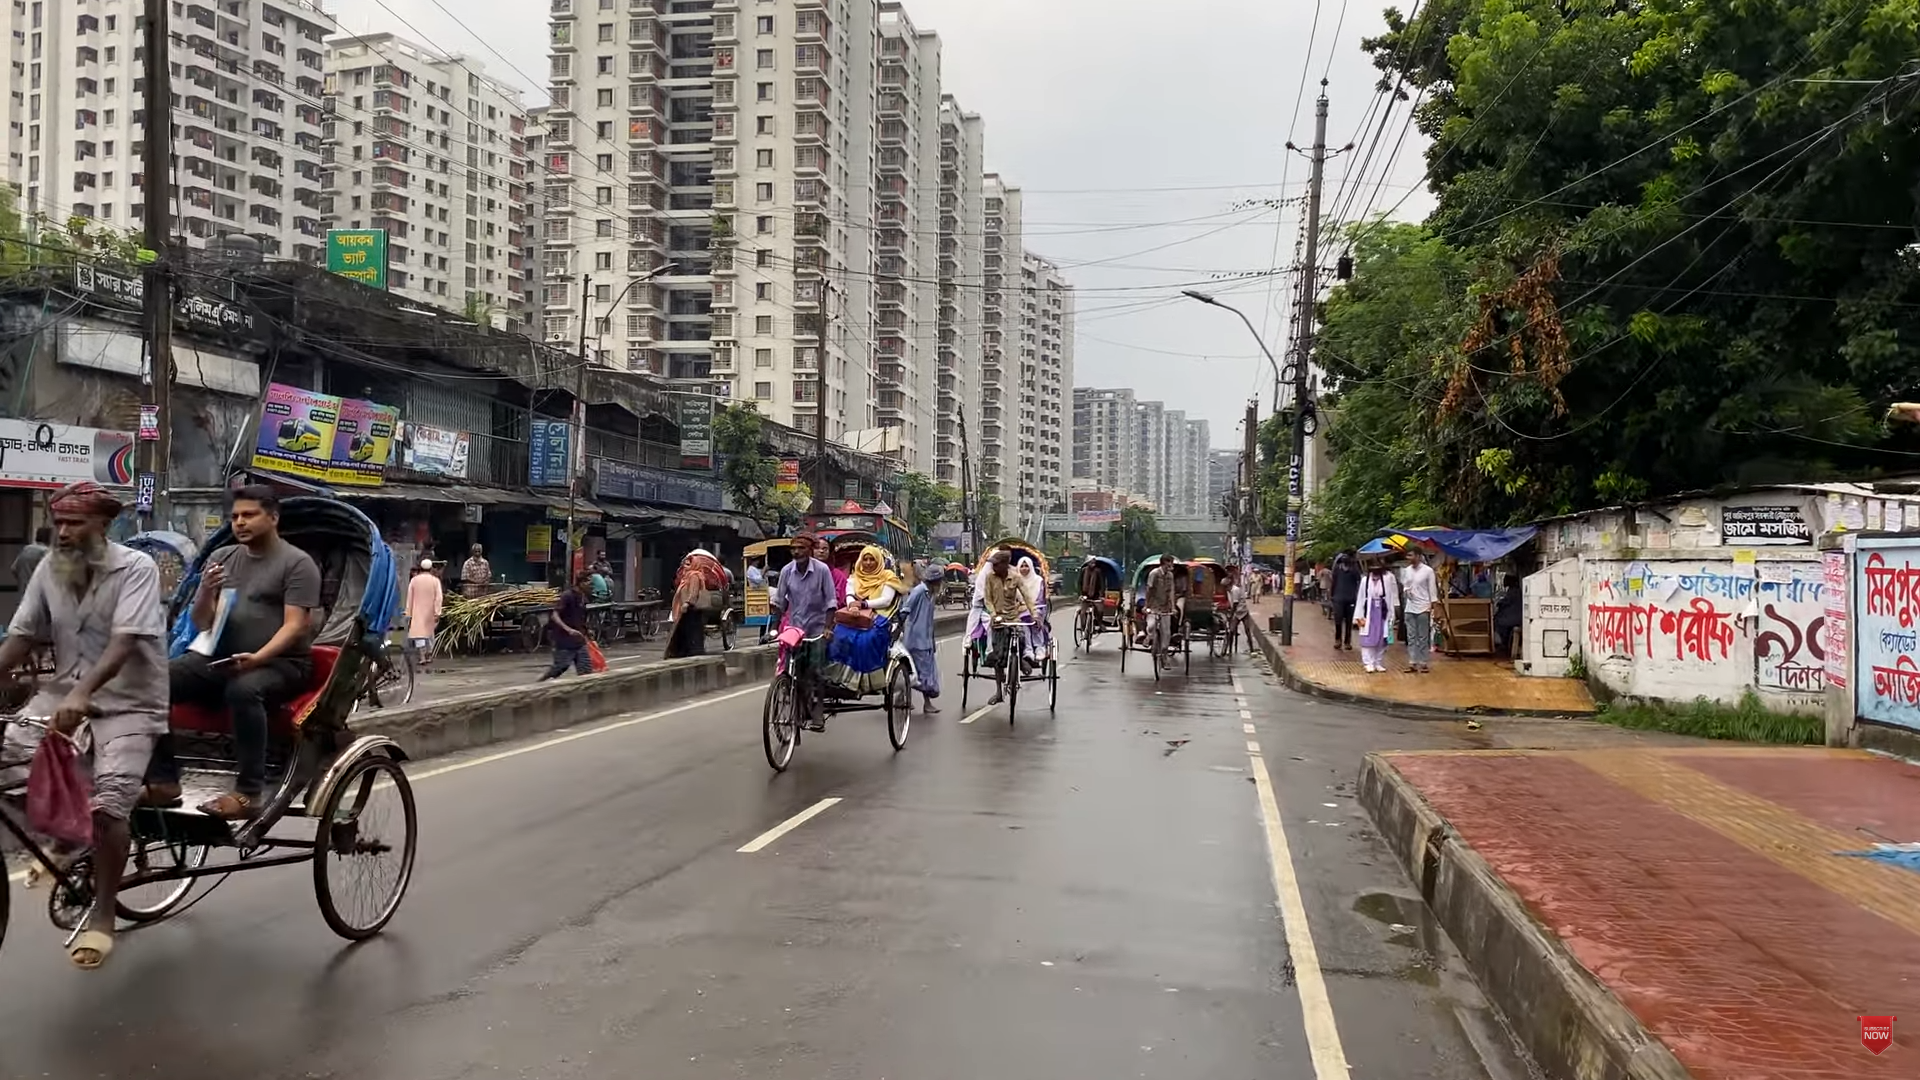Rickshaw: (0, 483, 448, 980), (752, 524, 926, 775), (956, 535, 1063, 729)
